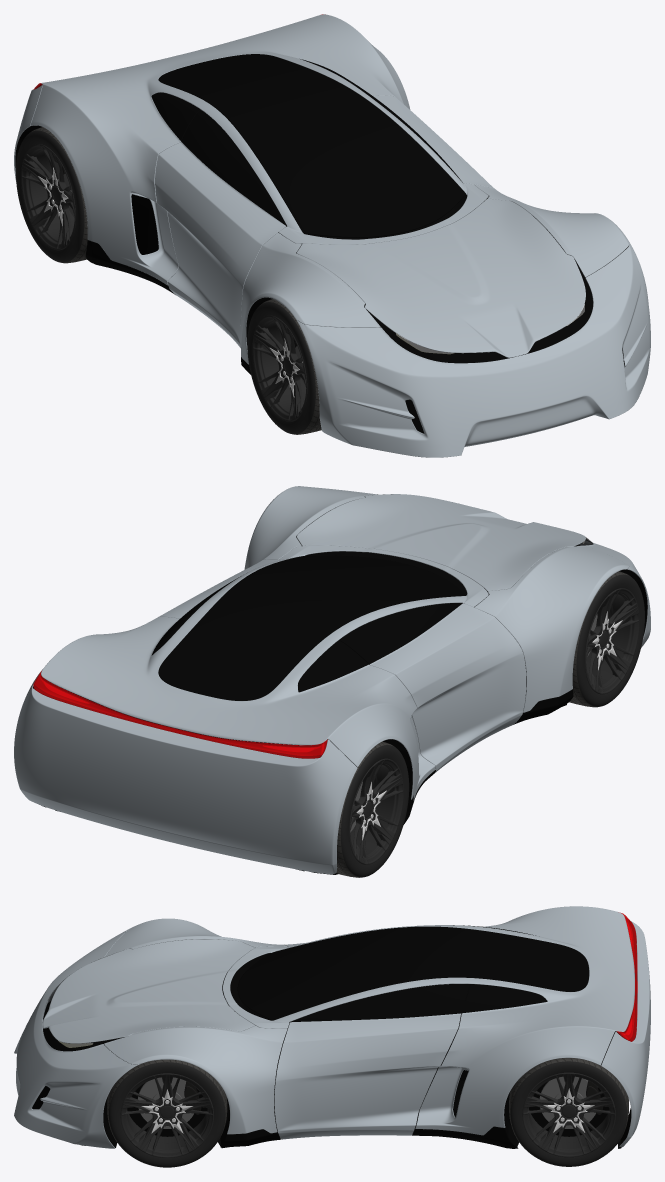
Rendered from car9.glb.
The picture shows the model from 3 angles, top to bottom: view 1: azimuth 30°, elevation 25°; view 2: azimuth 150°, elevation 25°; view 3: azimuth 270°, elevation 25°; orthographic projection. The views are drawn at different scales.
Visible parts, largest first — view 1: Cube.050, Cube.046, Cube.042, Cube.043, Cube.047, Cube.049, Cube.057, Cube.039, rim_235.001, rim_235.002, tire_v001_Coll.001|Mesh5.004|Dupli|, tire_v001_Coll.003|Mesh5.004|Dupli| (+2 smaller); view 2: Cube.048, Cube.046, Cube.042, Cube.047, Cube.049, Cube.043, Cube.057, rim_235.001, rim_235.002, tire_v001_Coll.003|Mesh5.004|Dupli|, tire_v001_Coll.001|Mesh5.004|Dupli|, Cube.045 (+5 smaller); view 3: Cube.046, Cube.042, Cube.047, Cube.043, Cube.049, Cube.050, Cube.057, rim_235, rim_235.003, tire_v001_Coll.002|Mesh5.004|Dupli|, tire_v001_Coll|Mesh5.004|Dupli|, Cube.048 (+8 smaller).
Boxes of the visible parts, bbox=[...] form: Cube.050: bbox=[296, 240, 650, 457]; Cube.046: bbox=[30, 14, 488, 285]; Cube.042: bbox=[159, 54, 465, 237]; Cube.043: bbox=[297, 198, 585, 357]; Cube.047: bbox=[155, 95, 494, 348]; Cube.049: bbox=[240, 184, 628, 364]; Cube.057: bbox=[151, 59, 462, 225]; Cube.039: bbox=[131, 79, 597, 433]; rim_235.001: bbox=[252, 315, 307, 421]; rim_235.002: bbox=[21, 144, 75, 250]; tire_v001_Coll.001|Mesh5.004|Dupli|: bbox=[247, 299, 321, 434]; tire_v001_Coll.003|Mesh5.004|Dupli|: bbox=[16, 127, 87, 263]; Cube.048: bbox=[14, 682, 357, 874]; Cube.046: bbox=[31, 545, 488, 801]; Cube.042: bbox=[159, 555, 465, 700]; Cube.047: bbox=[159, 559, 526, 773]; Cube.049: bbox=[244, 486, 628, 712]; Cube.043: bbox=[297, 494, 585, 591]; Cube.057: bbox=[151, 576, 462, 692]; rim_235.001: bbox=[585, 588, 639, 694]; rim_235.002: bbox=[349, 758, 403, 864]; tire_v001_Coll.003|Mesh5.004|Dupli|: bbox=[336, 741, 409, 877]; tire_v001_Coll.001|Mesh5.004|Dupli|: bbox=[569, 571, 644, 707]; Cube.045: bbox=[33, 671, 327, 758]; Cube.046: bbox=[223, 906, 634, 1135]; Cube.042: bbox=[237, 926, 588, 1020]; Cube.047: bbox=[274, 942, 460, 1139]; Cube.043: bbox=[42, 939, 254, 1043]; Cube.049: bbox=[104, 918, 287, 1134]; Cube.050: bbox=[14, 929, 140, 1148]; Cube.057: bbox=[290, 925, 547, 1022]; rim_235: bbox=[120, 1073, 213, 1157]; rim_235.003: bbox=[522, 1072, 615, 1157]; tire_v001_Coll.002|Mesh5.004|Dupli|: bbox=[509, 1058, 628, 1166]; tire_v001_Coll|Mesh5.004|Dupli|: bbox=[107, 1059, 227, 1167]; Cube.048: bbox=[601, 920, 650, 1147].
Bounding box in the file's own units: 2.07 × 1.04 × 3.98.
Materials: 14 (1 with a texture image).
